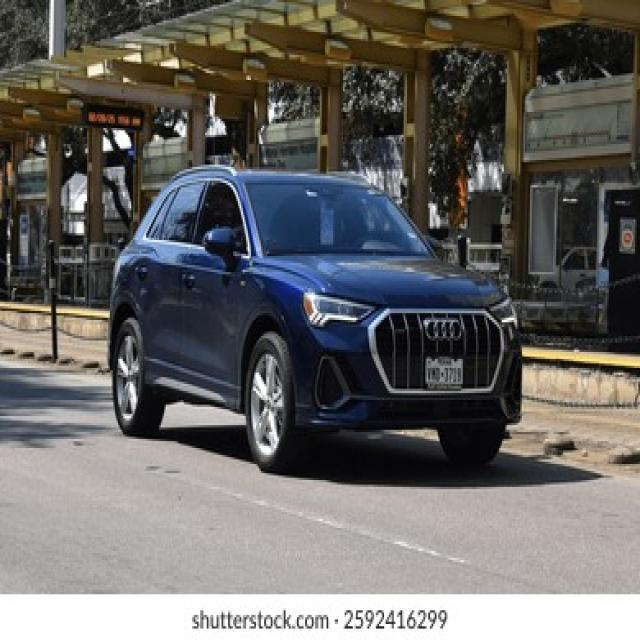audi: (424, 314, 464, 342)
